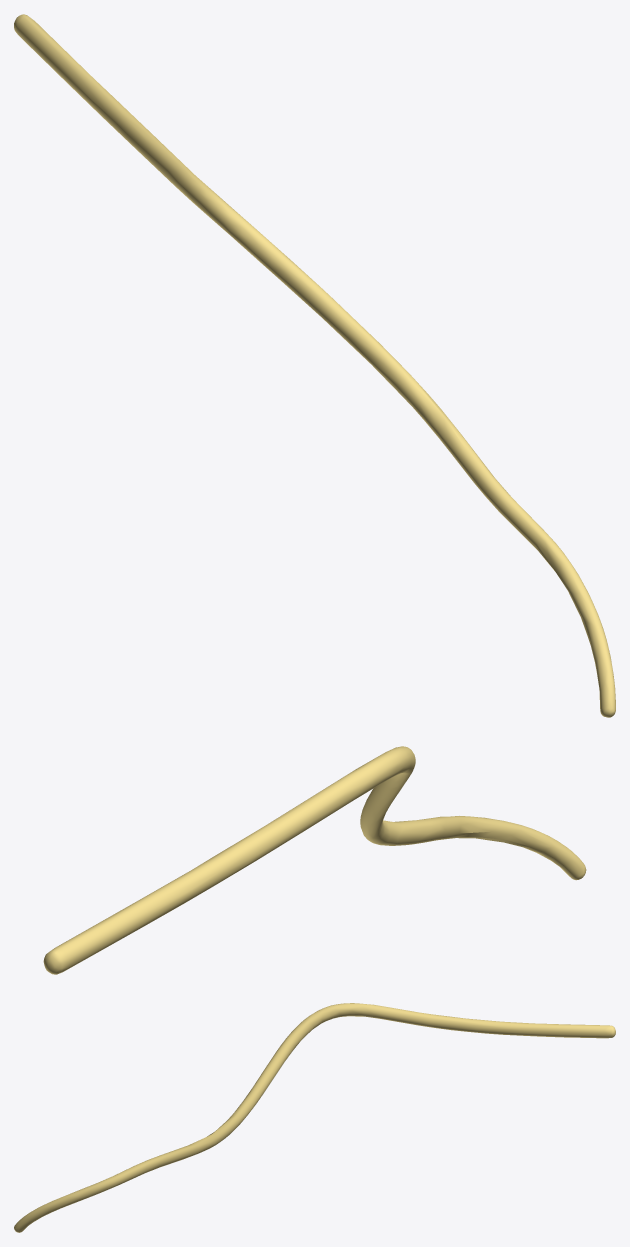
File: fma80595_fj3954.glb
3 renders of one model, top to bottom at view 1: azimuth 30°, elevation 25°; view 2: azimuth 150°, elevation 25°; view 3: azimuth 270°, elevation 25°, orthographic. The views are drawn at different scales.
Visible parts, largest first — view 1: FMA80595_FJ3954; view 2: FMA80595_FJ3954; view 3: FMA80595_FJ3954.
Part boxes in pixels (x1,y1,x2,y2): FMA80595_FJ3954: (14,14,615,717); FMA80595_FJ3954: (43,746,586,974); FMA80595_FJ3954: (14,1003,615,1232).
Size of the model in its own units: 0.0137 by 0.0289 by 0.0799.
